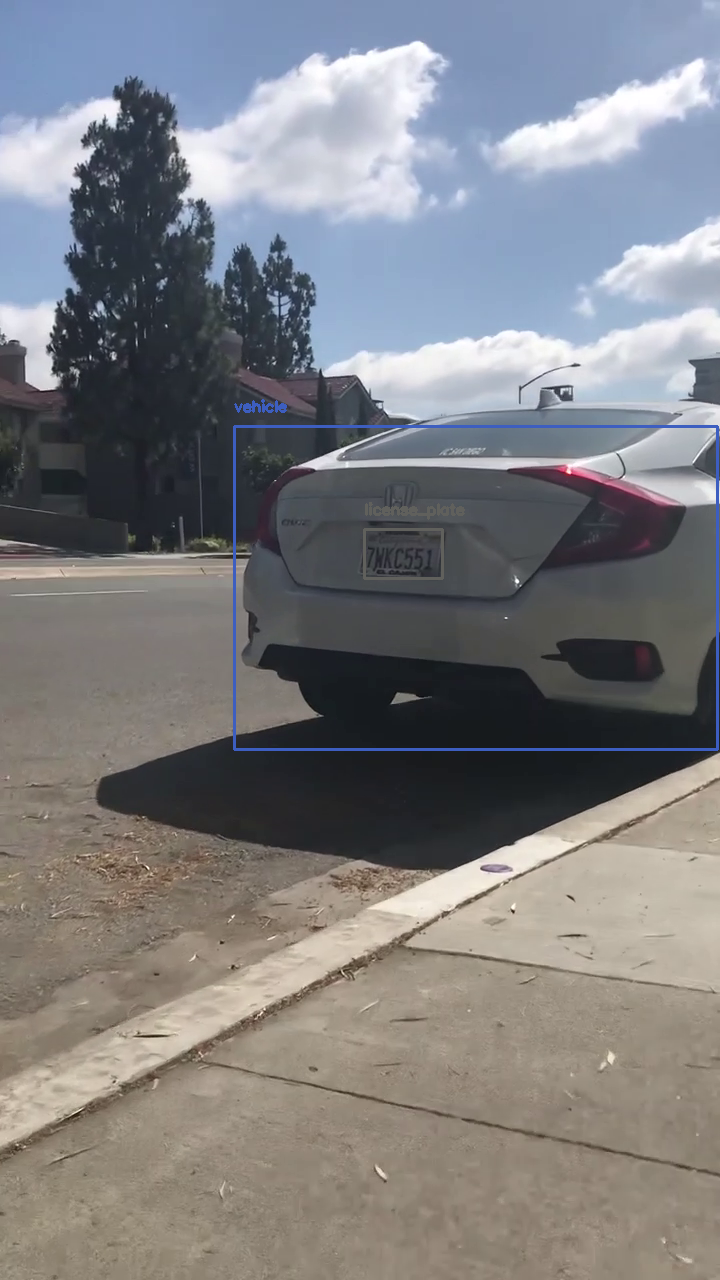license_plate: (364, 529, 442, 578)
vehicle: (234, 426, 717, 749)
